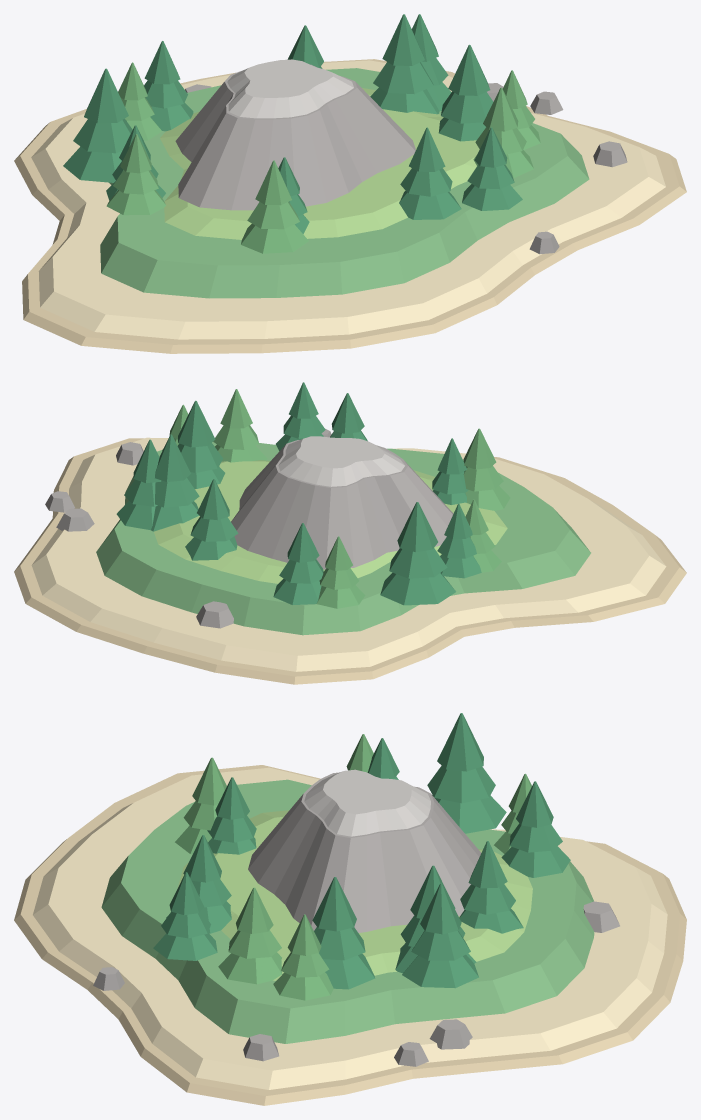
File: island_1.glb
The picture shows the model from 3 angles, top to bottom: view 1: azimuth 30°, elevation 25°; view 2: azimuth 150°, elevation 25°; view 3: azimuth 270°, elevation 25°; orthographic projection. The views are drawn at different scales.
Visible parts, largest first — view 1: Island1_Sand, Island1_Grass, Island1_Trees, Island1_Hill, Island1_SandWet, Island1_Trees2, Island1_GrassHi, Island1_HillTop, Island1_Rocks; view 2: Island1_Sand, Island1_Trees, Island1_Grass, Island1_Hill, Island1_SandWet, Island1_Trees2, Island1_GrassHi, Island1_HillTop, Island1_Rocks; view 3: Island1_Sand, Island1_Grass, Island1_Trees, Island1_Hill, Island1_SandWet, Island1_Trees2, Island1_GrassHi, Island1_HillTop, Island1_Rocks.
Part boxes in pixels (bbox=[...]): Island1_Sand: bbox=[31, 60, 665, 339]; Island1_Grass: bbox=[100, 68, 589, 298]; Island1_Trees: bbox=[63, 14, 522, 234]; Island1_Hill: bbox=[175, 64, 415, 210]; Island1_SandWet: bbox=[14, 59, 686, 353]; Island1_Trees2: bbox=[106, 62, 540, 253]; Island1_GrassHi: bbox=[160, 88, 479, 239]; Island1_HillTop: bbox=[227, 59, 353, 118]; Island1_Rocks: bbox=[185, 83, 627, 254]; Island1_Sand: bbox=[31, 437, 666, 671]; Island1_Trees: bbox=[116, 382, 481, 605]; Island1_Grass: bbox=[96, 442, 590, 635]; Island1_Hill: bbox=[231, 440, 453, 569]; Island1_SandWet: bbox=[14, 438, 686, 684]; Island1_Trees2: bbox=[162, 389, 510, 608]; Island1_GrassHi: bbox=[154, 460, 507, 583]; Island1_HillTop: bbox=[278, 436, 404, 486]; Island1_Rocks: bbox=[45, 428, 331, 628]; Island1_Sand: bbox=[33, 767, 667, 1089]; Island1_Grass: bbox=[101, 779, 594, 1043]; Island1_Trees: bbox=[153, 713, 570, 989]; Island1_Hill: bbox=[248, 772, 481, 932]; Island1_SandWet: bbox=[14, 765, 686, 1105]; Island1_Trees2: bbox=[175, 734, 531, 1000]; Island1_GrassHi: bbox=[177, 810, 532, 980]; Island1_HillTop: bbox=[304, 769, 430, 836]; Island1_Rocks: bbox=[93, 901, 619, 1066].
Bounding box in the file's own units: 5.6 × 1.13 × 4.71.
